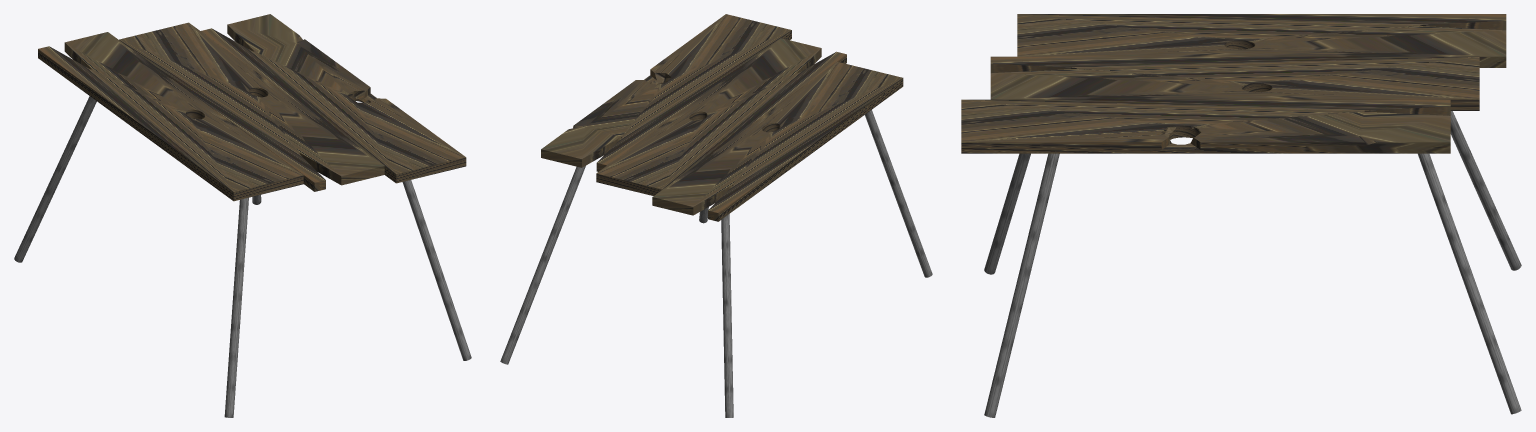
The model's file is funny.obj.
3 renders of one model, left to right at view 1: azimuth 30°, elevation 25°; view 2: azimuth 150°, elevation 25°; view 3: azimuth 270°, elevation 25°, orthographic. The views are drawn at different scales.
Parts seen in each view (by area): view 1: Cube.018_Cube.007, Cylinder.003_Cylinder.005, Cylinder.002_Cylinder.004, Cylinder.001_Cylinder.003; view 2: Cube.018_Cube.007, Cylinder_Cylinder.002, Cylinder.001_Cylinder.003, Cylinder.003_Cylinder.005; view 3: Cube.018_Cube.007, Cylinder_Cylinder.002, Cylinder.002_Cylinder.004, Cylinder.001_Cylinder.003, Cylinder.003_Cylinder.005.
Part boxes in pixels (x1=…): Cube.018_Cube.007: x1=38, y1=14, x2=466, y2=201; Cylinder.003_Cylinder.005: x1=224, y1=197, x2=248, y2=417; Cylinder.002_Cylinder.004: x1=402, y1=180, x2=471, y2=360; Cylinder.001_Cylinder.003: x1=14, y1=96, x2=96, y2=262; Cube.018_Cube.007: x1=541, y1=14, x2=903, y2=221; Cylinder_Cylinder.002: x1=500, y1=166, x2=585, y2=364; Cylinder.001_Cylinder.003: x1=721, y1=214, x2=733, y2=417; Cylinder.003_Cylinder.005: x1=865, y1=110, x2=932, y2=277; Cube.018_Cube.007: x1=961, y1=14, x2=1506, y2=153; Cylinder_Cylinder.002: x1=1418, y1=153, x2=1521, y2=414; Cylinder.002_Cylinder.004: x1=984, y1=153, x2=1059, y2=417; Cylinder.001_Cylinder.003: x1=1450, y1=111, x2=1521, y2=270; Cylinder.003_Cylinder.005: x1=984, y1=153, x2=1030, y2=274.
Size of the model in its own units: 3.16 by 2.63 by 4.98.
